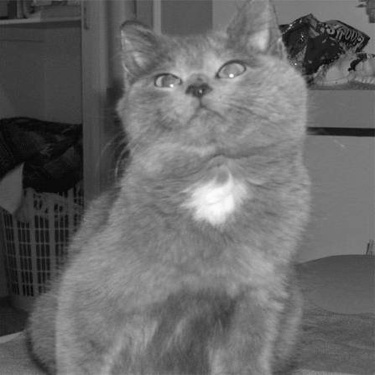cat: (22, 4, 312, 372)
